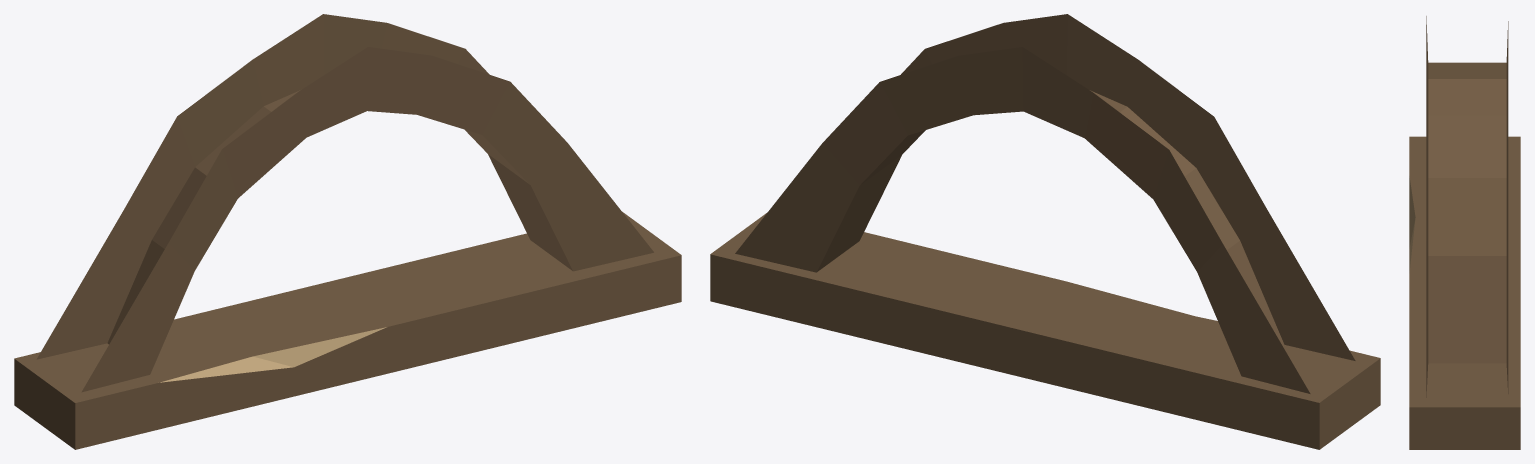
File: rpgpp_ag_roof_02_end_04_window_01a.fbx
3 views of the same model, side by side, from view 1: azimuth 30°, elevation 25°; view 2: azimuth 150°, elevation 25°; view 3: azimuth 270°, elevation 25° (orthographic). The views are drawn at different scales.
Parts seen in each view (by area): view 1: rpgpp_ag_roof_02_end_04_window_01a; view 2: rpgpp_ag_roof_02_end_04_window_01a; view 3: rpgpp_ag_roof_02_end_04_window_01a.
Boxes of the visible parts, x1=… form: rpgpp_ag_roof_02_end_04_window_01a: x1=14, y1=14, x2=681, y2=449; rpgpp_ag_roof_02_end_04_window_01a: x1=710, y1=14, x2=1380, y2=449; rpgpp_ag_roof_02_end_04_window_01a: x1=1409, y1=16, x2=1520, y2=449.
Bounding box in the file's own units: 3.32 × 1.69 × 0.5785.
